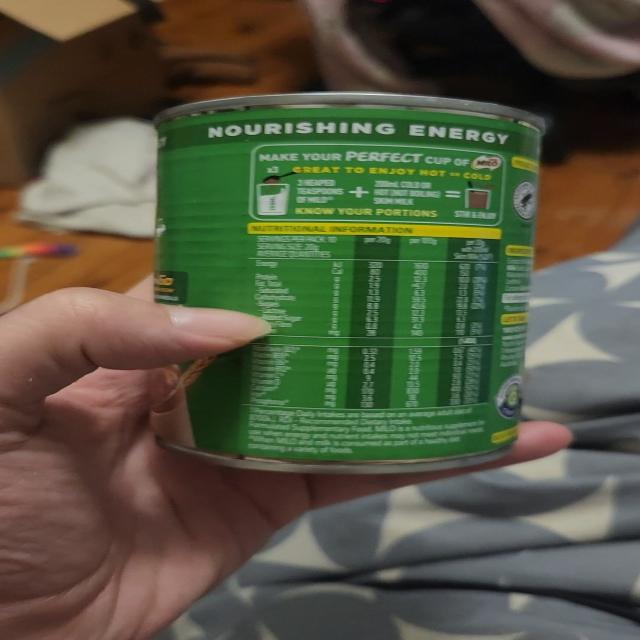nestle_milo_tin: (156, 93, 544, 474)
